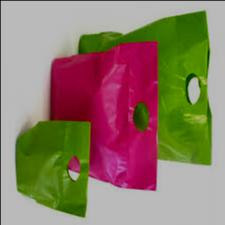Plastic: (67, 12, 216, 163), (50, 38, 164, 187), (11, 114, 100, 214)
